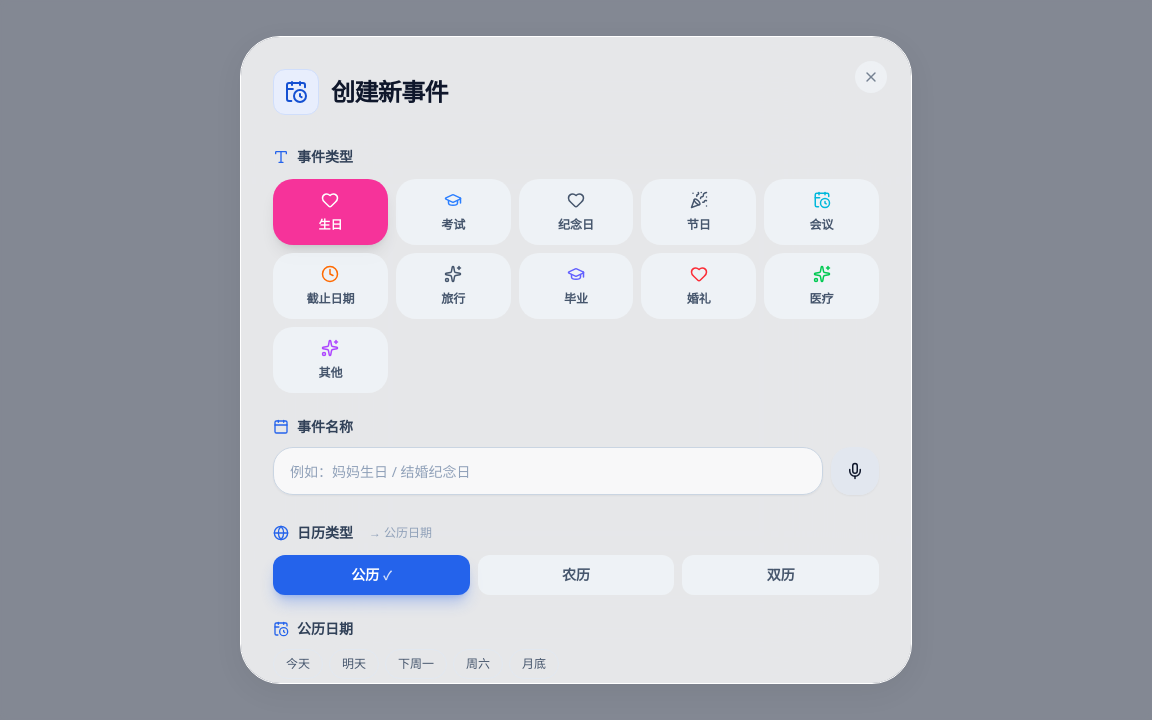
Test: EventForm voice input › shows a clear message on permission denial and leaves the form usable for typing
Click the button named "语音输入事件": (855, 471) [831, 447, 879, 495]
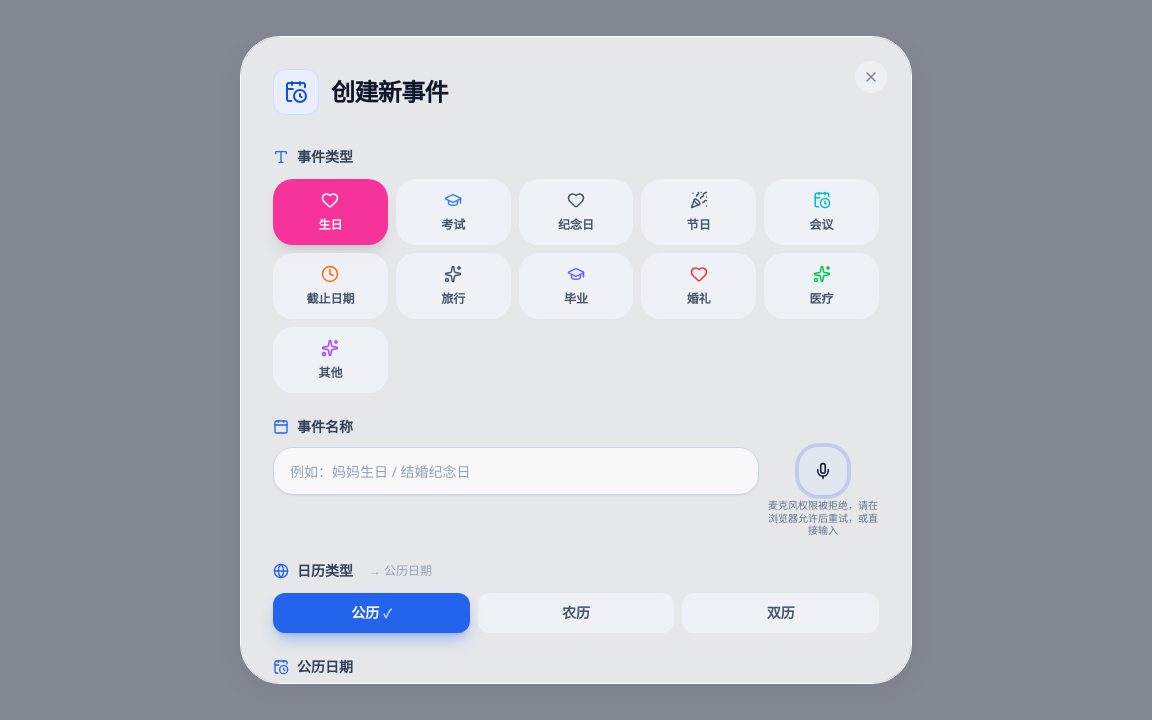
Now the text "麦克风权限被拒绝，请在浏览器允许后重试，或直接输入" is shown, box [767, 499, 879, 536]
// The form is still fully usable for typing.
In the field named "事件名称": (516, 471) [273, 447, 759, 495], type "仍然可以输入"
(page scrolled)
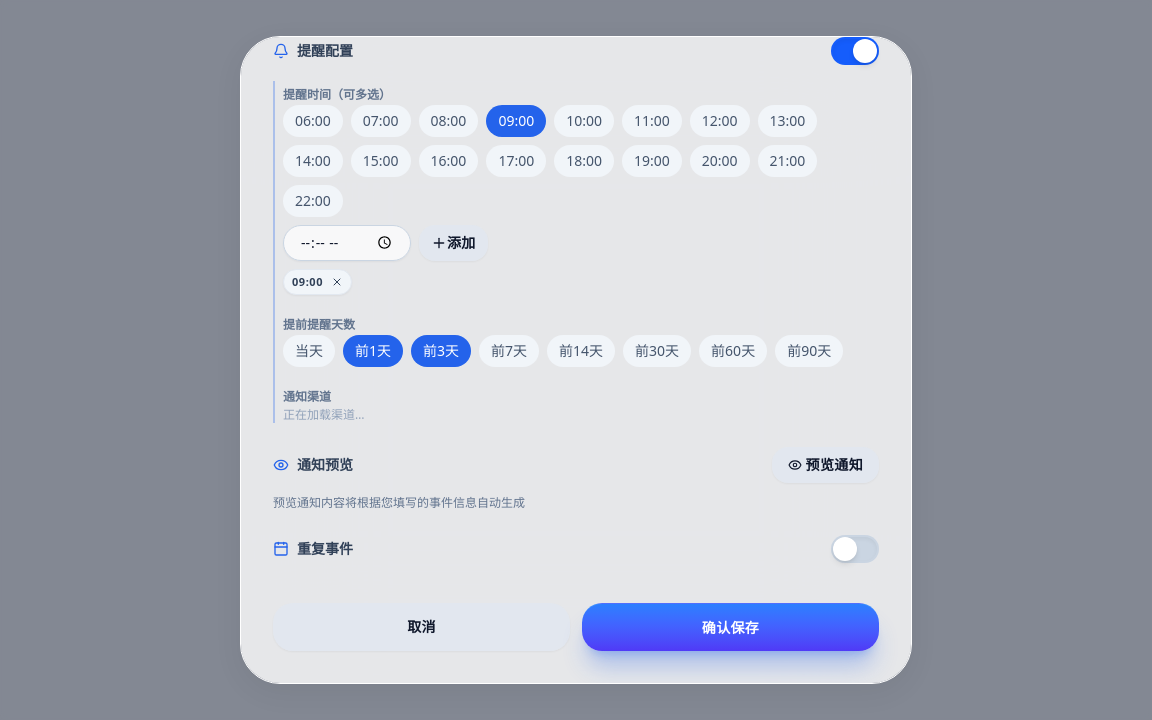
Now the button "确认保存" is enabled, box [582, 603, 879, 651]
